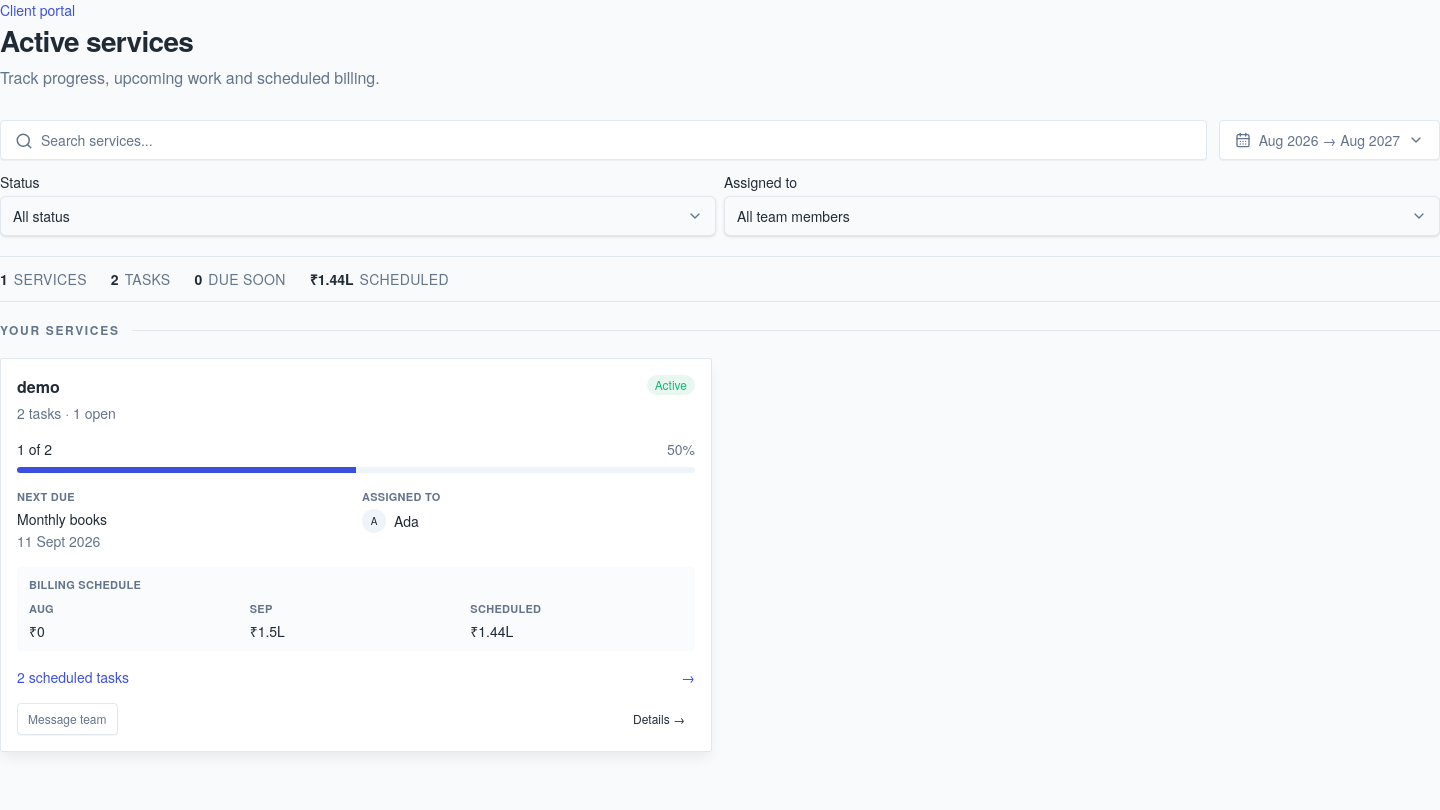
shows compact service cards, next due, and a service drawer instead of an accordion
Expected: the heading "Active services" is shown, [0,20,193,61]
Expected: the field labelled "Search services" is shown, [0,120,1207,160]
Click the button "2 scheduled tasks →".
click(61, 677)  # box [17,663,695,691]
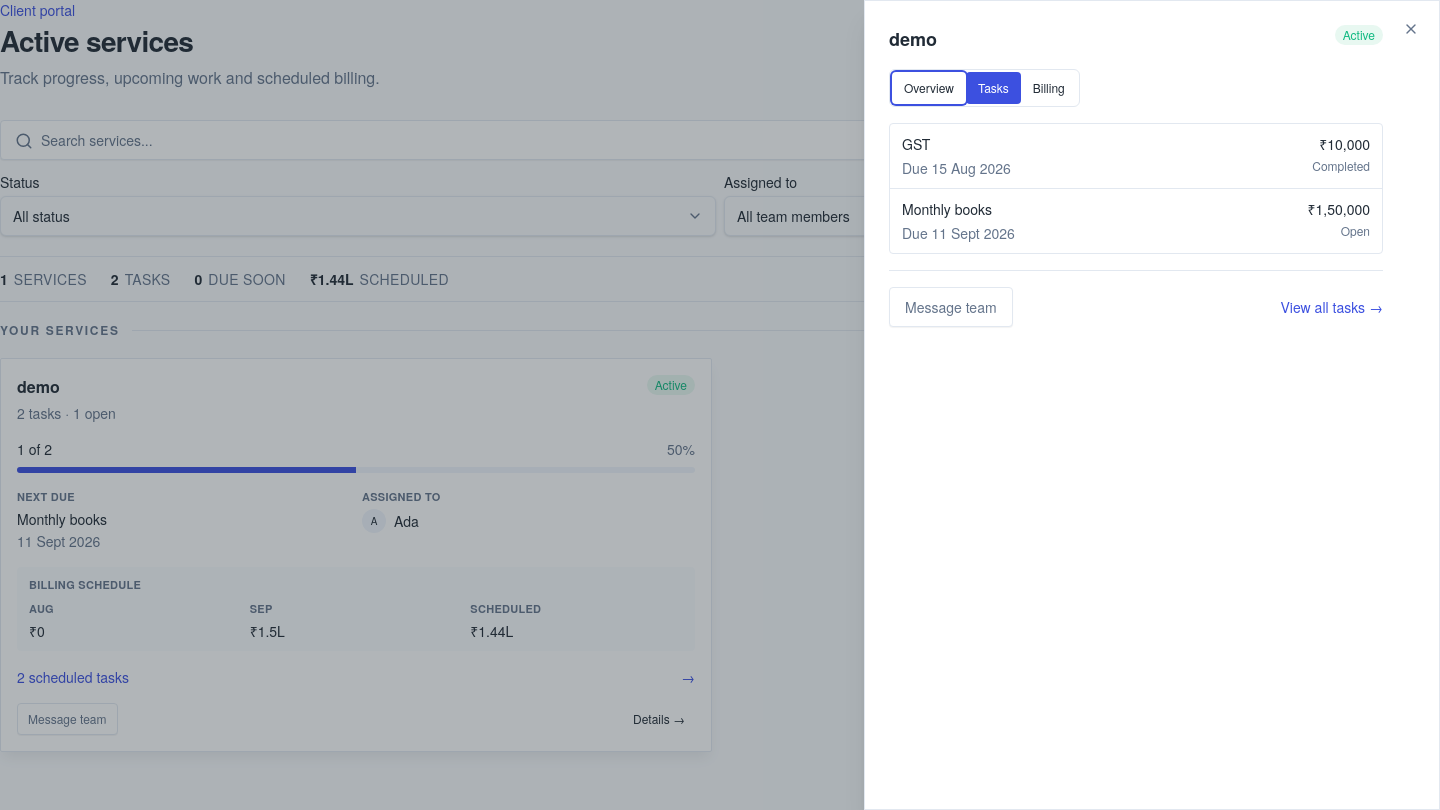
Expected: the text "Monthly books" below "Next due" is shown, [17,509,107,529]
Now the text "GST" is shown, box [902,134,930,154]
Click the button "Billing".
click(1049, 88)  # box [1021,72,1077,104]
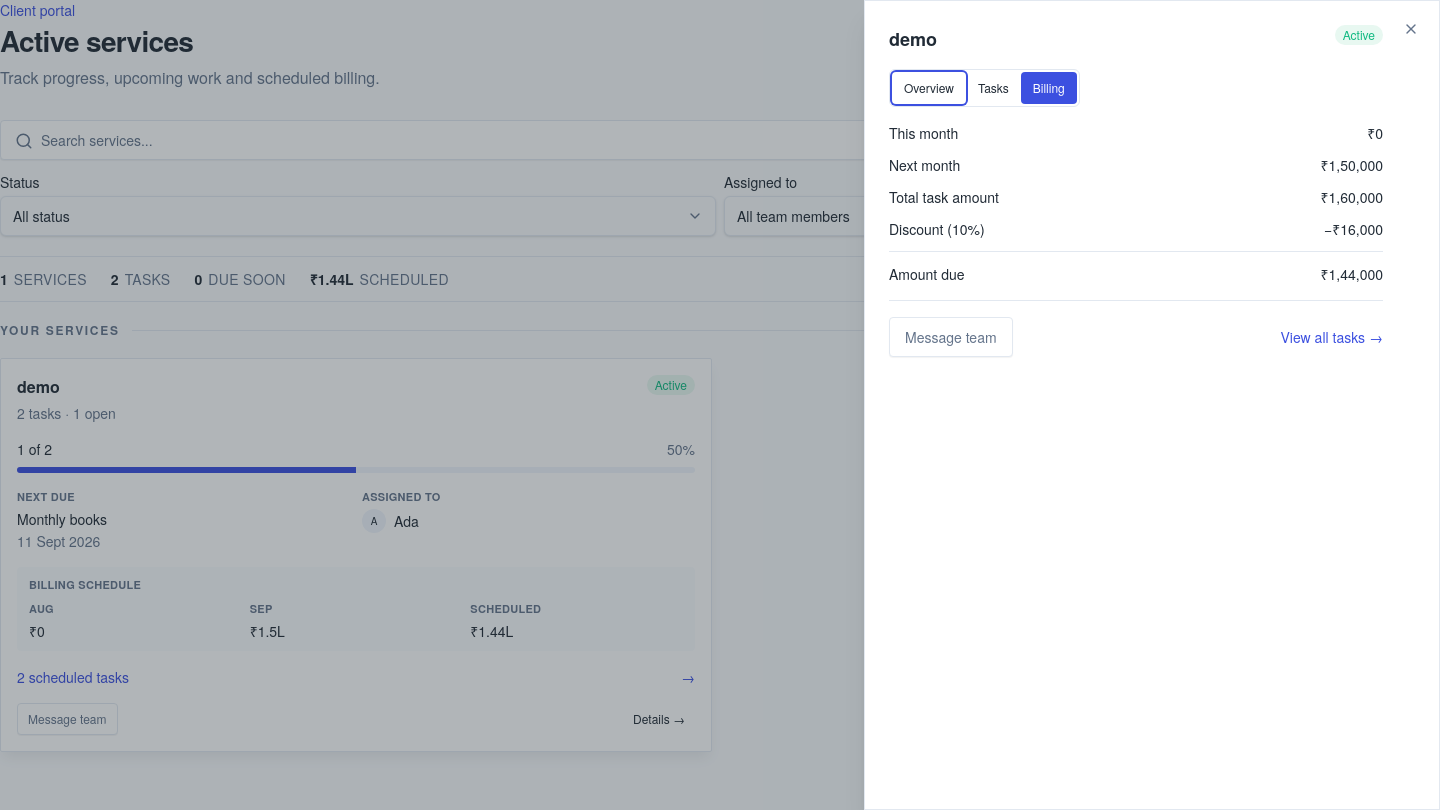
Now the text "Total task amount" is shown, box [889,187,999,207]
Now the text "₹1,60,000" is shown, box [1320,187,1383,207]
Now the text "Discount (10%)" is shown, box [889,219,985,239]
Click the button "Message team".
click(951, 337)  # box [889,317,1013,357]
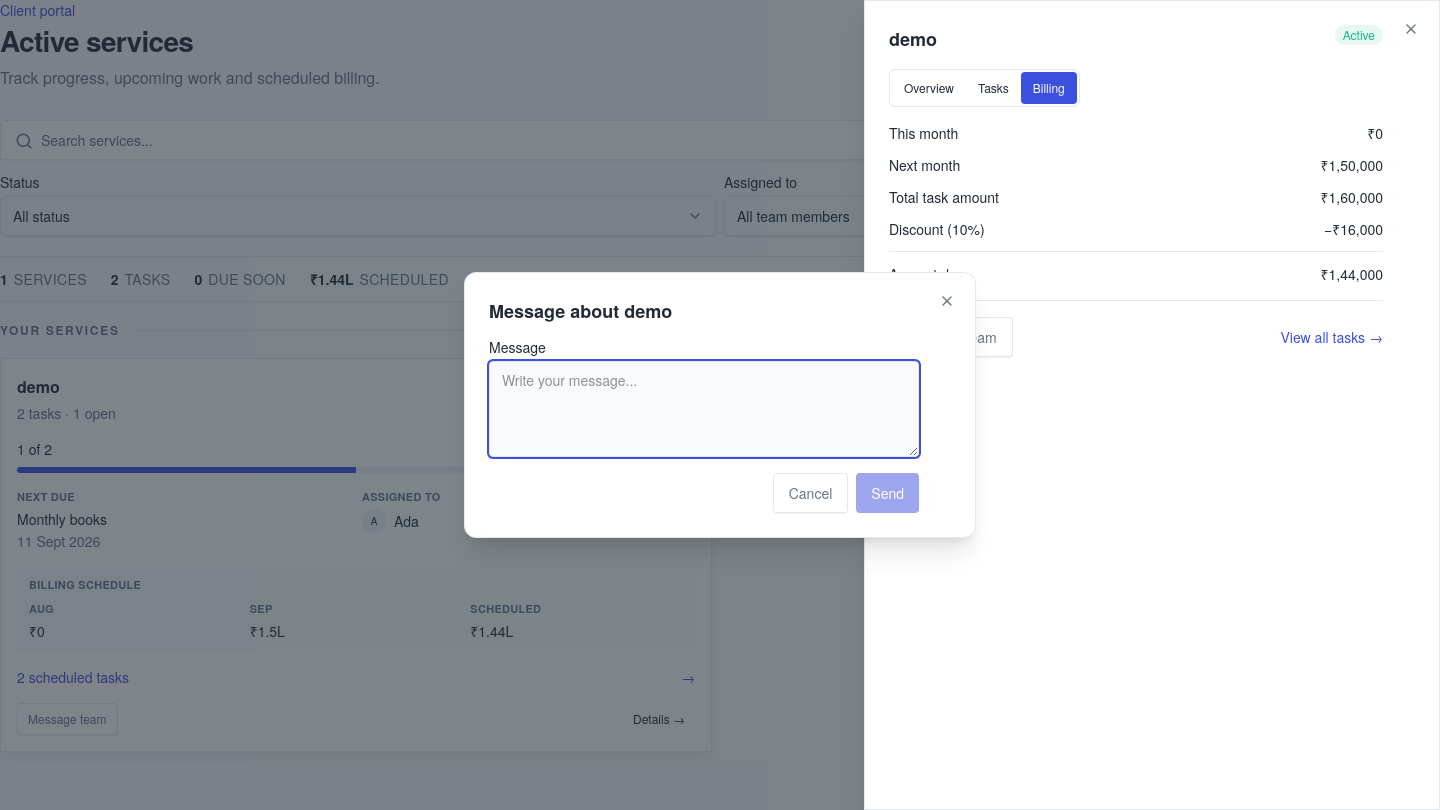
Now the text box named "Comment on demo" is shown, box [489,361,919,457]
Now the button "Send" is shown, box [856,473,919,513]
